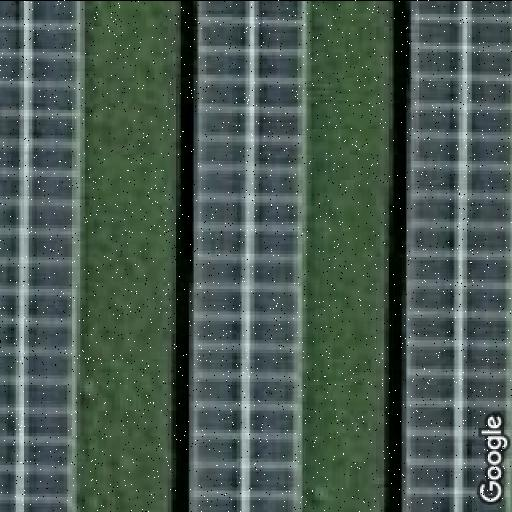solar-panel: (186, 0, 318, 512), (397, 0, 512, 512), (0, 0, 88, 512)
